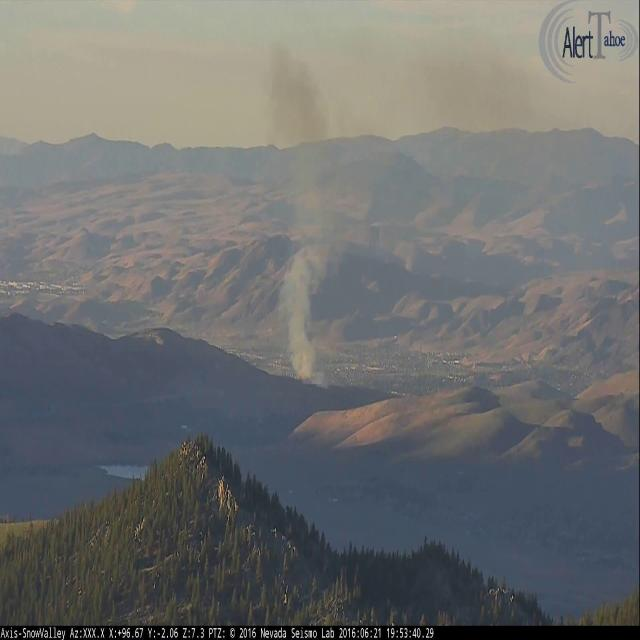smoke: (262, 32, 531, 389)
